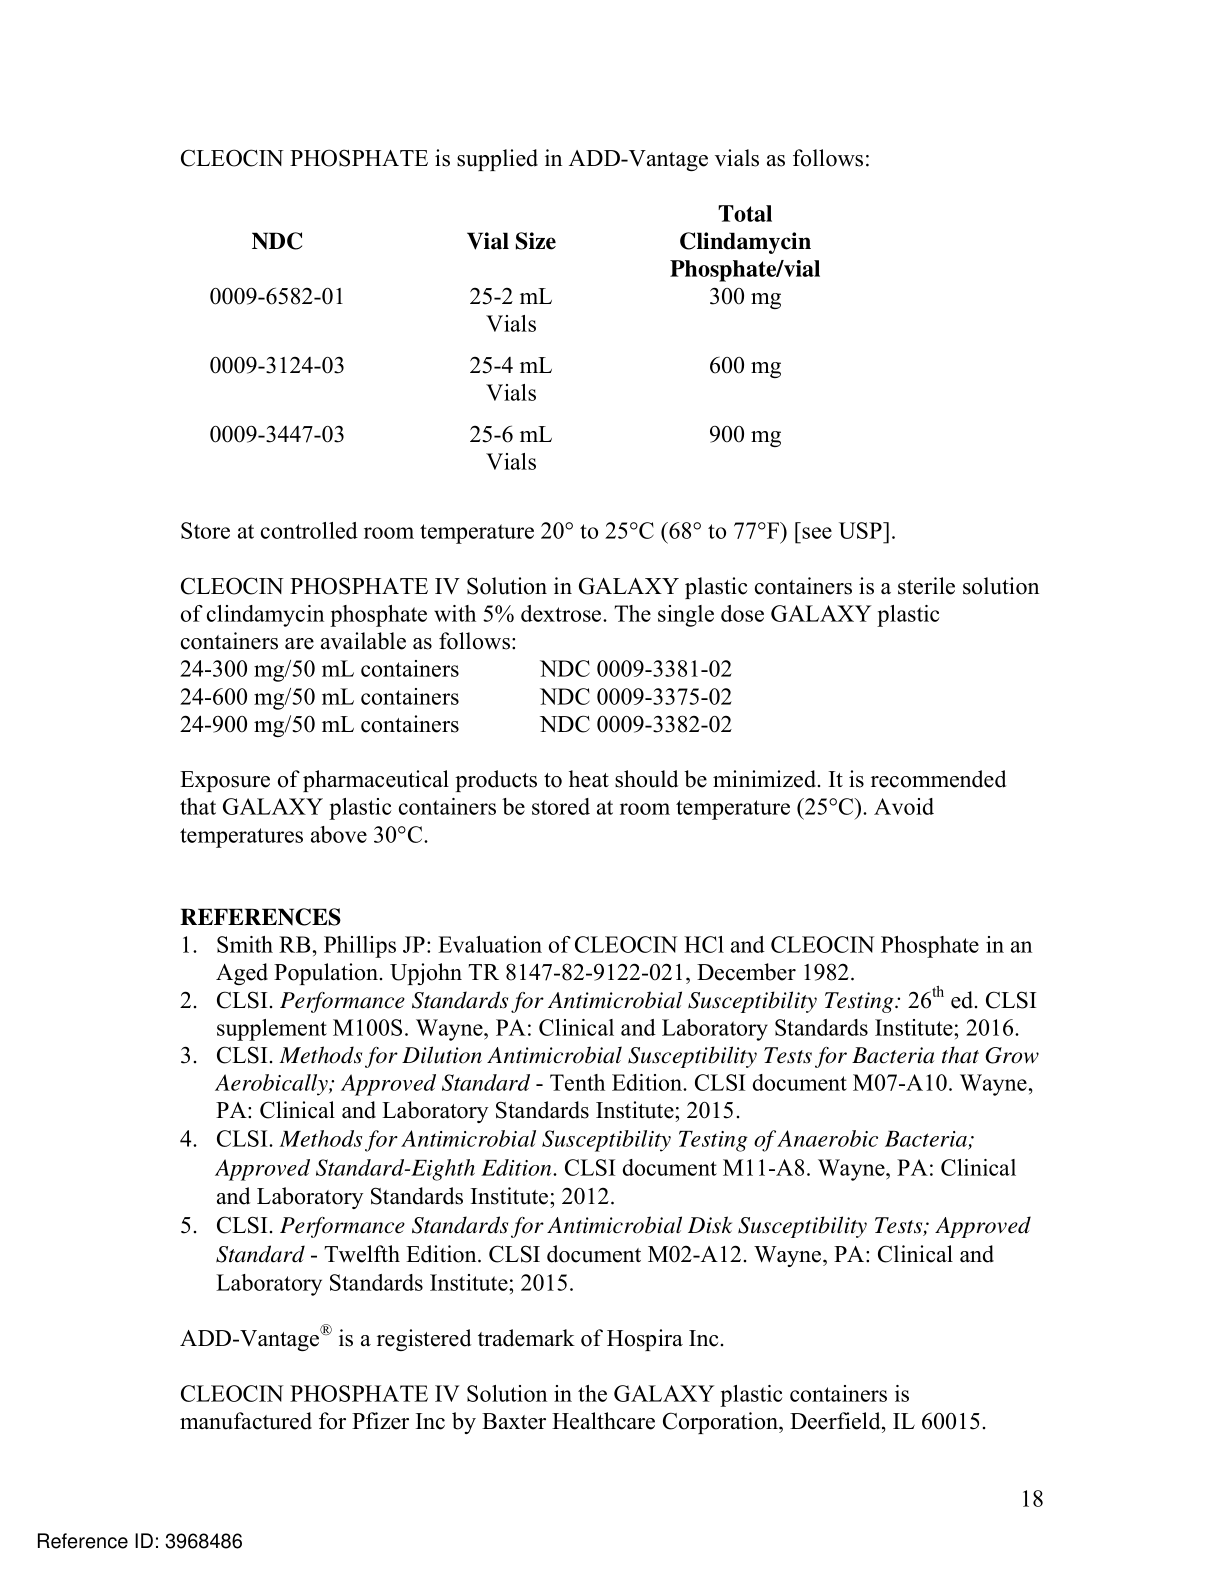nolines: (204, 201, 824, 473), (177, 657, 734, 739)
